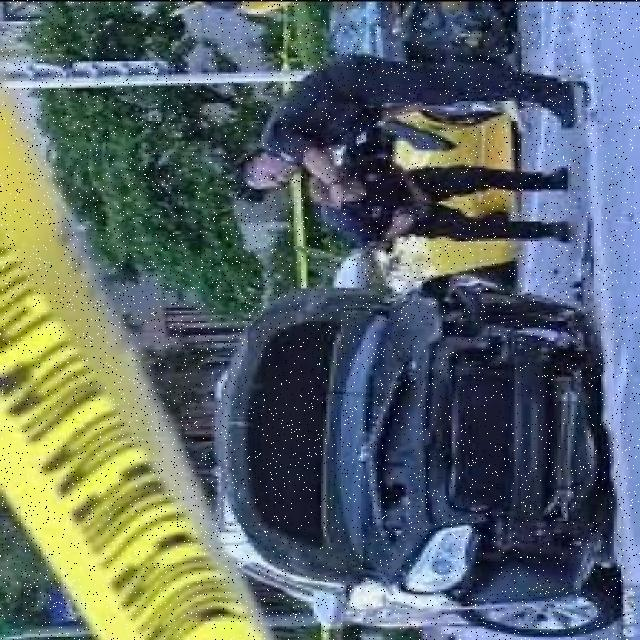damage: (356, 283, 621, 595)
